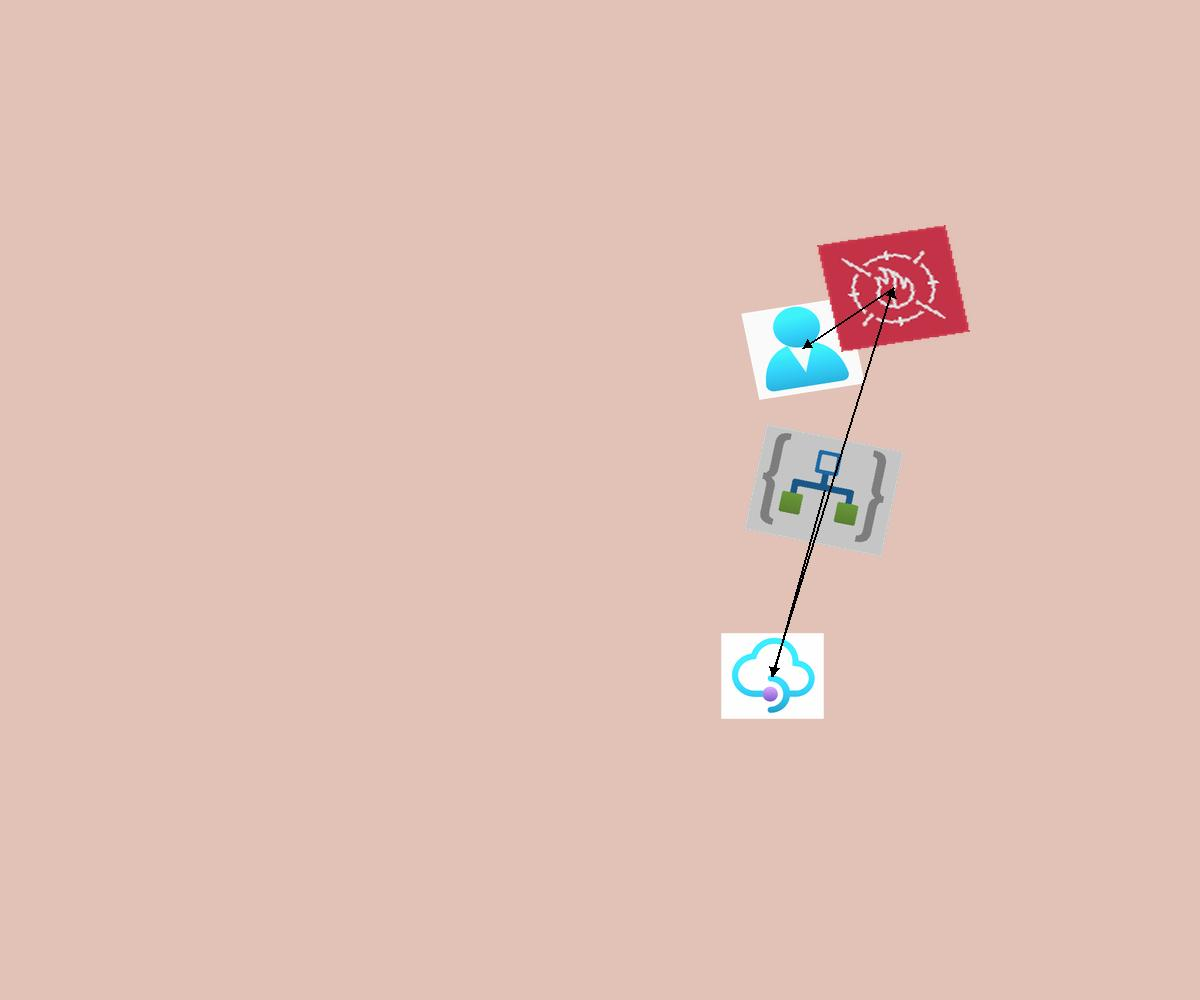AWS-WAF: (817, 225, 970, 352)
Azure_api_gateway: (721, 633, 824, 719)
Azure_integration-204-Logic-Apps: (744, 424, 904, 557)
Azure_users: (741, 297, 865, 400)
